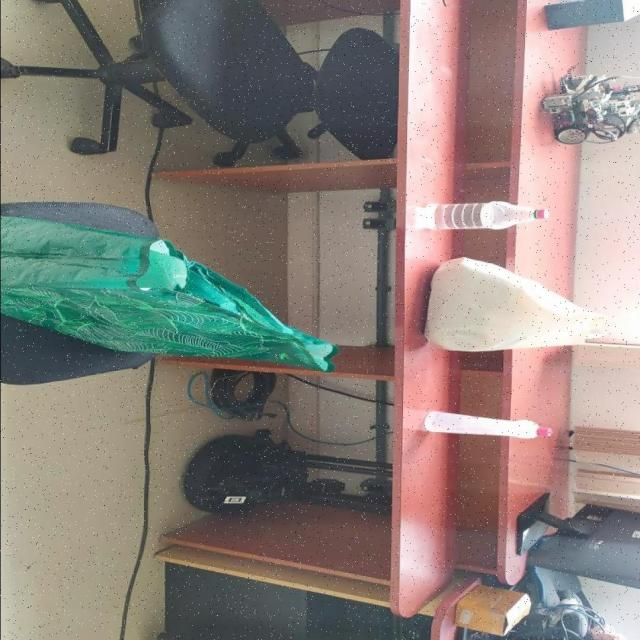Bag: (0, 214, 343, 376), (414, 255, 605, 357)
